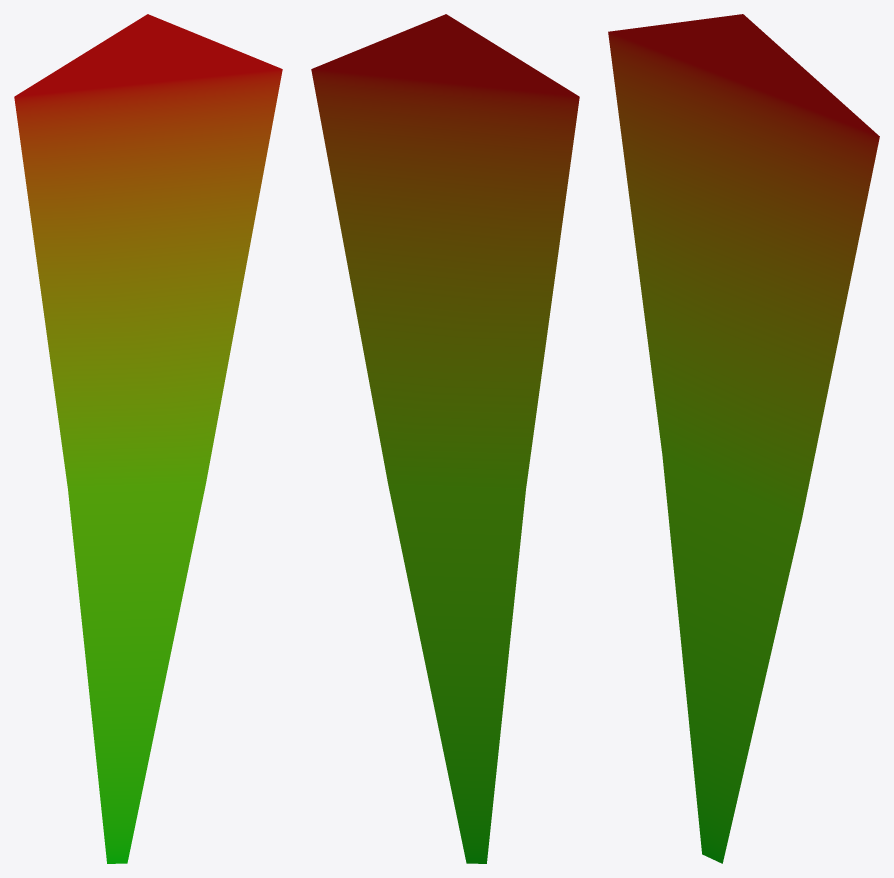
File: Sea Wheatgrass_LOD3_Var14_ui2oagjia.fbx
The picture shows the model from 3 angles, left to right: view 1: azimuth 30°, elevation 25°; view 2: azimuth 150°, elevation 25°; view 3: azimuth 330°, elevation 25°; orthographic projection.
Parts seen in each view (by area): view 1: _n52r_Var14_LOD3; view 2: _n52r_Var14_LOD3; view 3: _n52r_Var14_LOD3.
Part boxes in pixels (x1,y1,x2,y2): _n52r_Var14_LOD3: [14, 14, 282, 863]; _n52r_Var14_LOD3: [311, 14, 579, 863]; _n52r_Var14_LOD3: [608, 14, 879, 863].
Bounding box in the file's own units: 19.36 × 58.18 × 2.54e-06.
